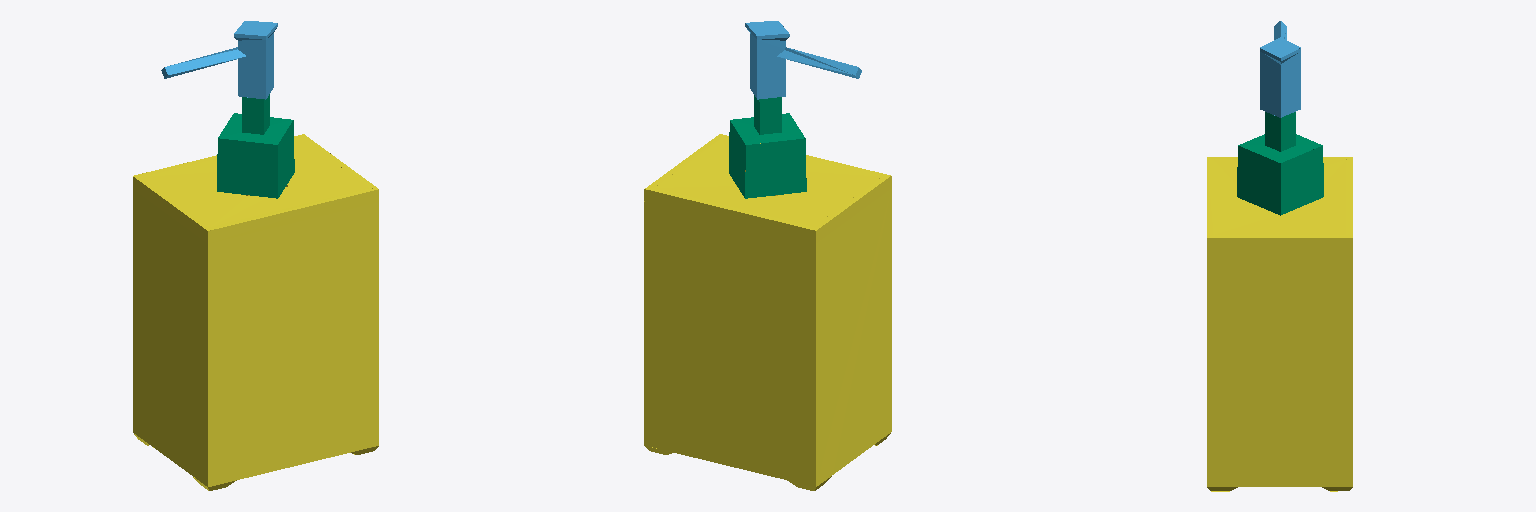
URDF robot description (partnet_8dc910d2-5ddc-46a7-9216-695dd51cd55b):
<?xml version="1.0" ?>
<robot name="partnet_8dc910d2-5ddc-46a7-9216-695dd51cd55b">
	<link name="base"/>
	<link name="link_0">
		<visual name="pressing_lid-4">
			<origin xyz="0.00011 0 0.005202499999999999"/>
			<geometry>
				<mesh filename="textured_objs/original_3.obj"/>
			</geometry>
		</visual>
		<visual name="pressing_lid-4">
			<origin xyz="0.00011 0 0.005202499999999999"/>
			<geometry>
				<mesh filename="textured_objs/original_9.obj"/>
			</geometry>
		</visual>
		<collision>
			<origin xyz="0.00011 0 0.005202499999999999"/>
			<geometry>
				<mesh filename="textured_objs/original_3.obj"/>
			</geometry>
		</collision>
		<collision>
			<origin xyz="0.00011 0 0.005202499999999999"/>
			<geometry>
				<mesh filename="textured_objs/original_9.obj"/>
			</geometry>
		</collision>
	</link>
	<joint name="joint_0" type="continuous">
		<origin xyz="0.0 0 0.0"/>
		<axis xyz="0 1 0"/>
		<child link="link_0"/>
		<parent link="link_0_helper"/>
	</joint>
	<link name="link_1">
		<visual name="head-6">
			<origin xyz="0 0 0"/>
			<geometry>
				<mesh filename="textured_objs/original_4.obj"/>
			</geometry>
		</visual>
		<visual name="head-6">
			<origin xyz="0 0 0"/>
			<geometry>
				<mesh filename="textured_objs/original_2.obj"/>
			</geometry>
		</visual>
		<collision>
			<origin xyz="0 0 0"/>
			<geometry>
				<mesh filename="textured_objs/original_4.obj"/>
			</geometry>
		</collision>
		<collision>
			<origin xyz="0 0 0"/>
			<geometry>
				<mesh filename="textured_objs/original_2.obj"/>
			</geometry>
		</collision>
	</link>
	<joint name="joint_1" type="continuous">
		<origin xyz="0 0 0"/>
		<axis xyz="0 1 0"/>
		<child link="link_1"/>
		<parent link="link_1_helper"/>
	</joint>
	<link name="link_2">
		<visual name="base_body-7">
			<origin xyz="0 0 0"/>
			<geometry>
				<mesh filename="textured_objs/original_8.obj"/>
			</geometry>
		</visual>
		<visual name="base_body-7">
			<origin xyz="0 0 0"/>
			<geometry>
				<mesh filename="textured_objs/original_5.obj"/>
			</geometry>
		</visual>
		<visual name="base_body-7">
			<origin xyz="0 0 0"/>
			<geometry>
				<mesh filename="textured_objs/original_6.obj"/>
			</geometry>
		</visual>
		<visual name="base_body-7">
			<origin xyz="0 0 0"/>
			<geometry>
				<mesh filename="textured_objs/original_7.obj"/>
			</geometry>
		</visual>
		<visual name="base_body-7">
			<origin xyz="0 0 0"/>
			<geometry>
				<mesh filename="textured_objs/original_1.obj"/>
			</geometry>
		</visual>
		<collision>
			<origin xyz="0 0 0"/>
			<geometry>
				<mesh filename="textured_objs/original_8.obj"/>
			</geometry>
		</collision>
		<collision>
			<origin xyz="0 0 0"/>
			<geometry>
				<mesh filename="textured_objs/original_5.obj"/>
			</geometry>
		</collision>
		<collision>
			<origin xyz="0 0 0"/>
			<geometry>
				<mesh filename="textured_objs/original_6.obj"/>
			</geometry>
		</collision>
		<collision>
			<origin xyz="0 0 0"/>
			<geometry>
				<mesh filename="textured_objs/original_7.obj"/>
			</geometry>
		</collision>
		<collision>
			<origin xyz="0 0 0"/>
			<geometry>
				<mesh filename="textured_objs/original_1.obj"/>
			</geometry>
		</collision>
	</link>
	<joint name="joint_2" type="fixed">
		<origin rpy="1.570796326794897 0 -1.570796326794897" xyz="0 0 0"/>
		<child link="link_2"/>
		<parent link="base"/>
	</joint>
	<link name="link_0_helper">
		<inertial>
			<origin xyz="0 0 0"/>
			<mass value="1e-6"/>
			<inertia ixx="1e-10" ixy="0" ixz="0" iyy="1e-10" iyz="0" izz="1e-10"/>
		</inertial>
	</link>
	<joint name="joint_3" type="prismatic">
		<origin xyz="-0.00011 0 -0.005202499999999999"/>
		<axis xyz="0 -1 0"/>
		<child link="link_0_helper"/>
		<parent link="link_1"/>
		<limit lower="0" upper="0.14"/>
	</joint>
	<link name="link_1_helper">
		<inertial>
			<origin xyz="0 0 0"/>
			<mass value="1e-6"/>
			<inertia ixx="1e-10" ixy="0" ixz="0" iyy="1e-10" iyz="0" izz="1e-10"/>
		</inertial>
	</link>
	<joint name="joint_4" type="prismatic">
		<origin xyz="0 0 0"/>
		<axis xyz="0 1 0"/>
		<child link="link_1_helper"/>
		<parent link="link_2"/>
		<limit lower="0" upper="0.1160000000000001"/>
	</joint>
</robot>

--- Facts derived from the render (not from the file) ---
The picture shows the robot from 3 angles, left to right: view 1: azimuth 30°, elevation 25°; view 2: azimuth 150°, elevation 25°; view 3: azimuth 270°, elevation 25°; orthographic projection.
Robot: partnet_8dc910d2-5ddc-46a7-9216-695dd51cd55b — 6 links, 5 joints (2 continuous, 2 prismatic, 1 fixed); root link base; default pose: every joint at zero.
Links seen in each view (by area): view 1: link_2, link_1, link_0; view 2: link_2, link_1, link_0; view 3: link_2, link_1, link_0.
Boxes of the visible links, x1=… form: link_2: x1=133, y1=134, x2=378, y2=490; link_1: x1=217, y1=94, x2=294, y2=198; link_0: x1=161, y1=21, x2=277, y2=99; link_2: x1=644, y1=134, x2=891, y2=490; link_1: x1=729, y1=95, x2=806, y2=198; link_0: x1=745, y1=21, x2=861, y2=99; link_2: x1=1207, y1=157, x2=1352, y2=491; link_1: x1=1237, y1=112, x2=1323, y2=215; link_0: x1=1260, y1=21, x2=1300, y2=117.
Bounding box of the posed robot: 0.7404 × 0.5471 × 1.67 m (x, y, z).
9 mesh visuals loaded from 9 distinct referenced files (9 OBJ).
